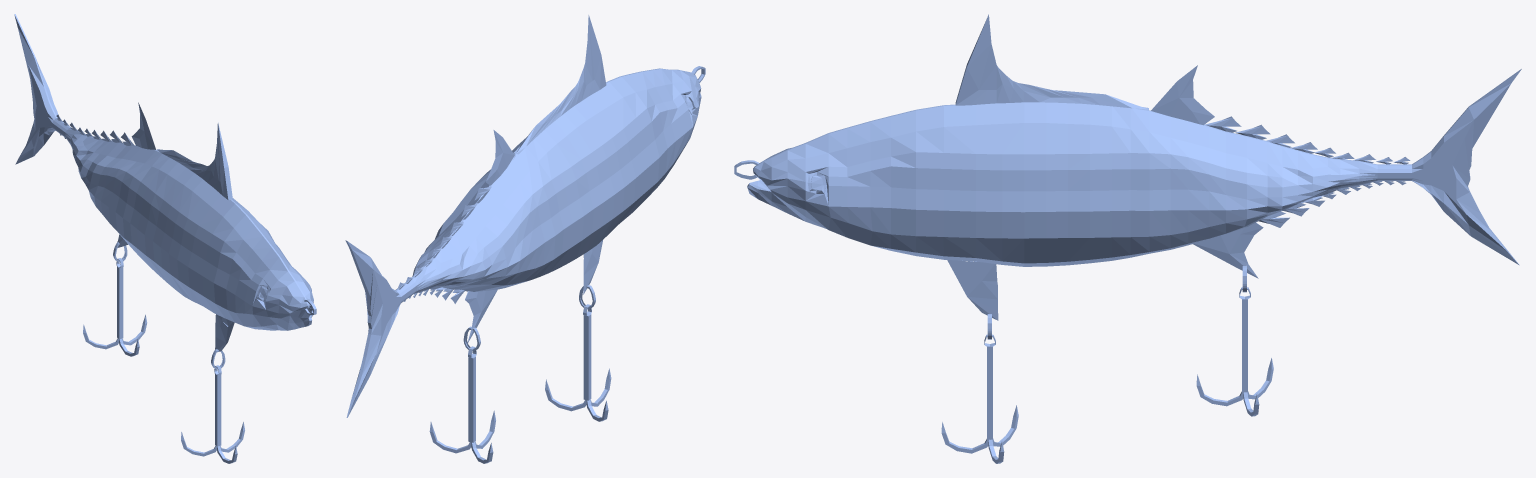
File: Fishing_Bait1.fbx
3 views of the same model, side by side, from view 1: azimuth 30°, elevation 25°; view 2: azimuth 150°, elevation 25°; view 3: azimuth 270°, elevation 25° (orthographic). The views are drawn at different scales.
Visible parts, largest first — view 1: Fish_Bait; view 2: Fish_Bait; view 3: Fish_Bait.
Boxes of the visible parts, left/top/right/bottom form: Fish_Bait: left=14, top=14, right=316, bottom=463; Fish_Bait: left=345, top=15, right=705, bottom=463; Fish_Bait: left=734, top=14, right=1521, bottom=463.
Size of the model in its own units: 3.2 by 14.14 by 23.
